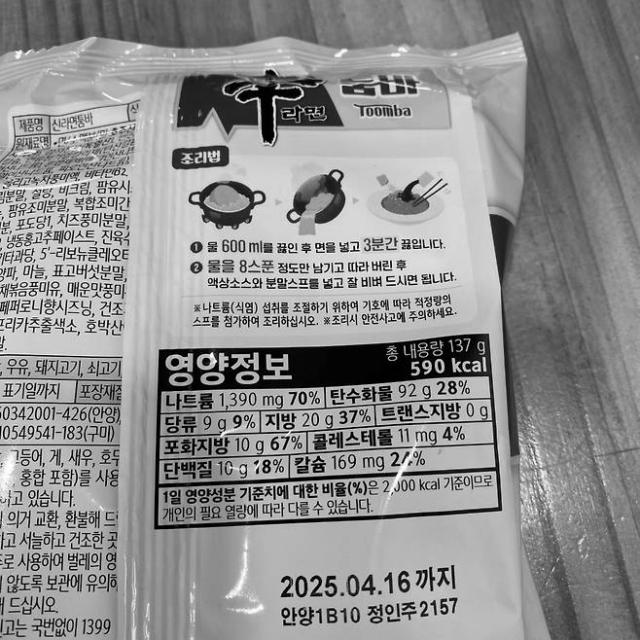Nutrition Label: (146, 335, 515, 528)
